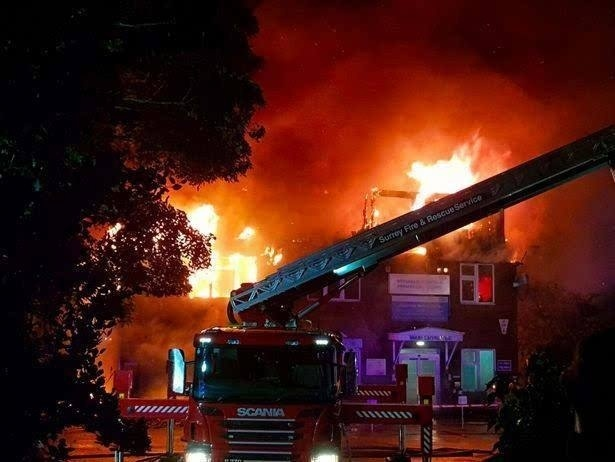fire: (175, 196, 278, 297), (402, 139, 483, 219)
